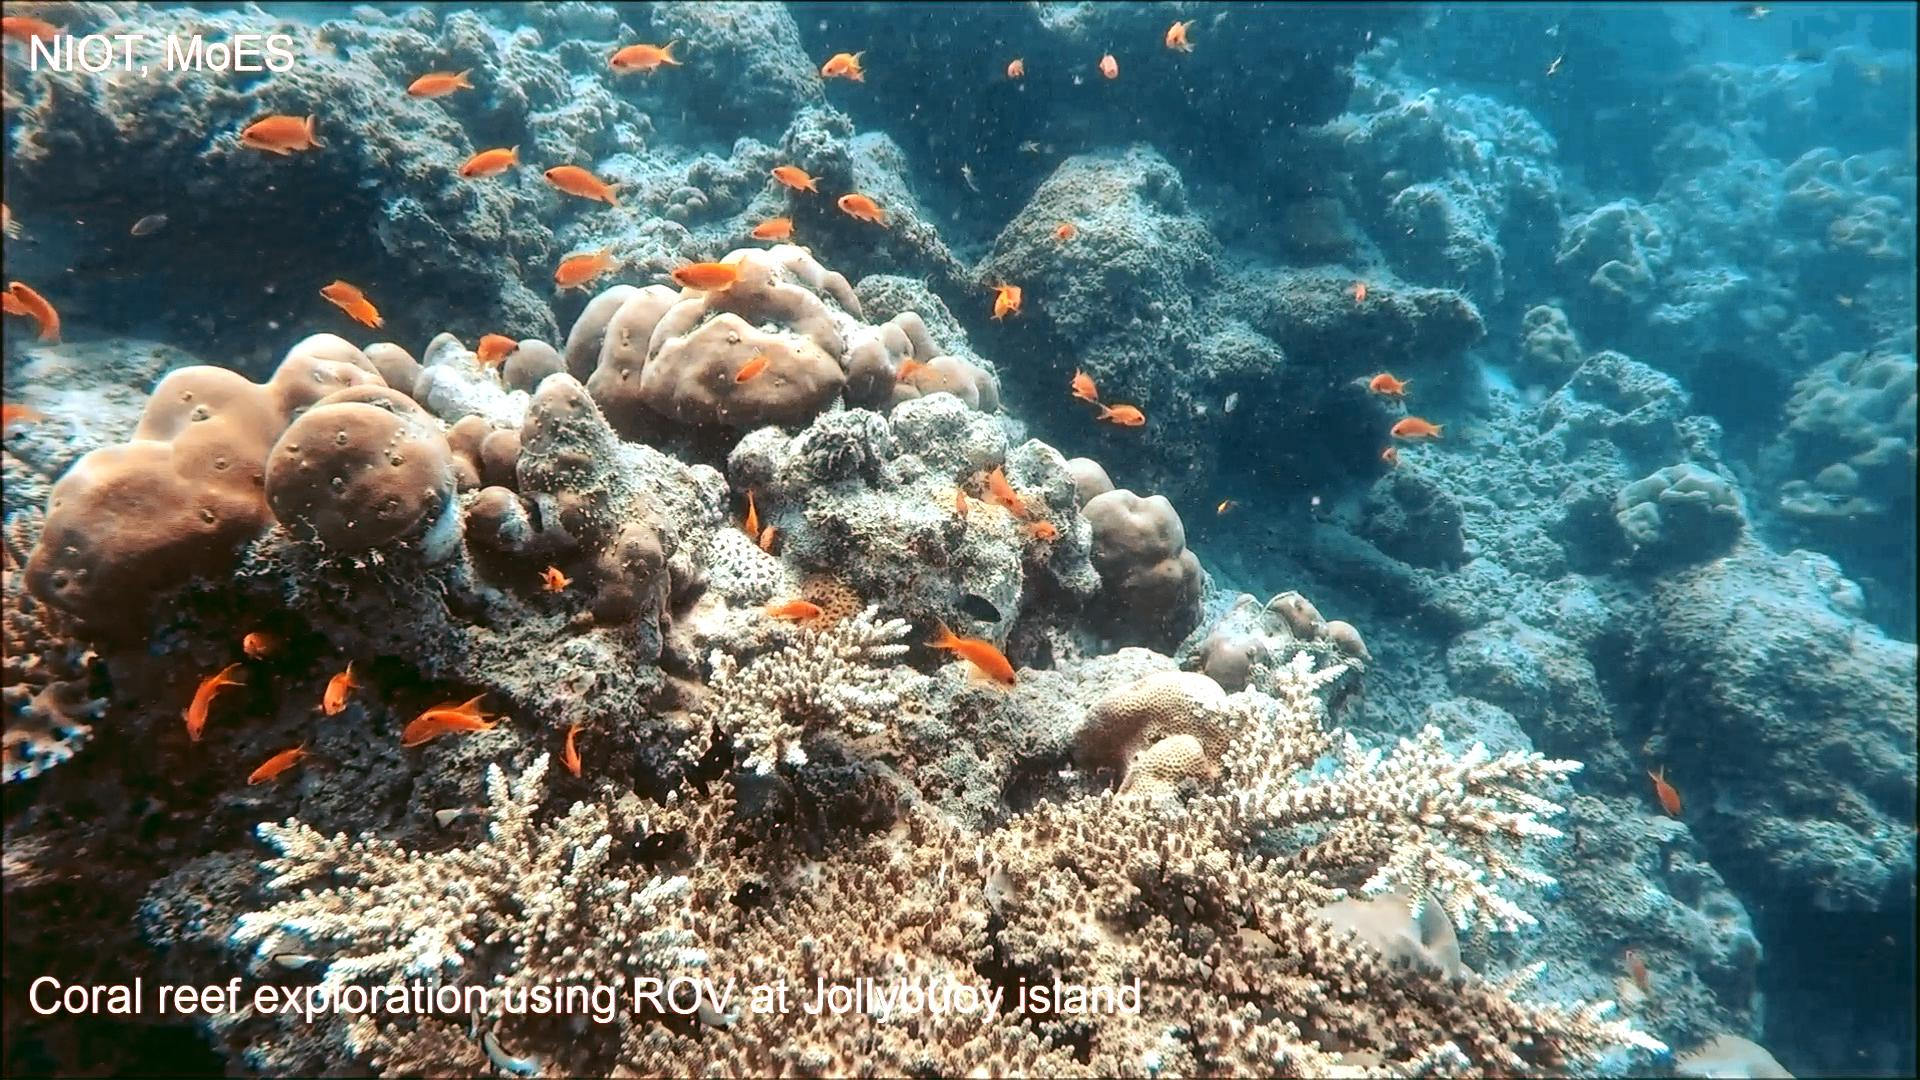Porites-Porites pukoensis: (14, 328, 462, 631), (532, 226, 1010, 450)
